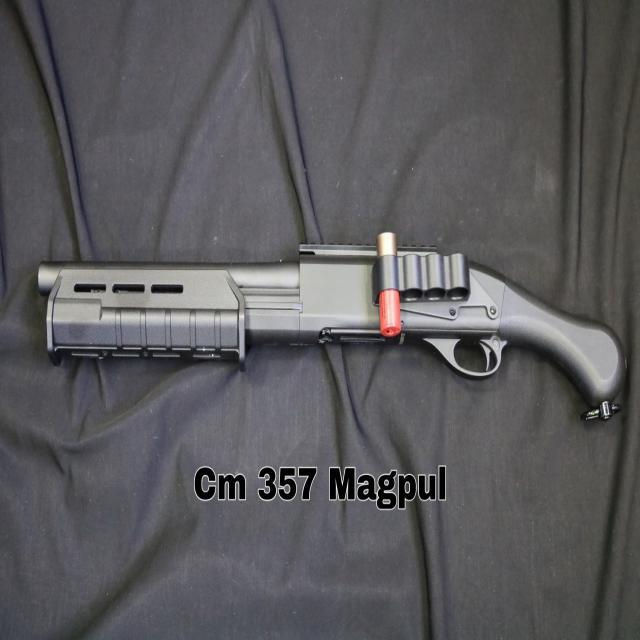shotgun: (28, 216, 636, 434)
